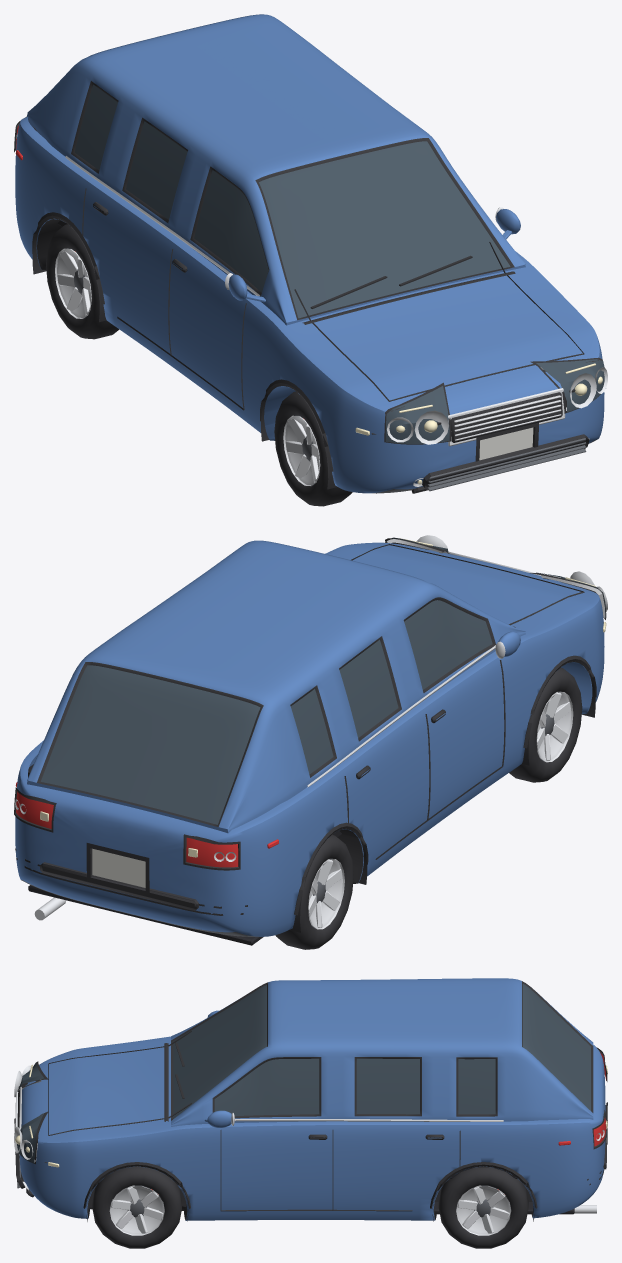
Rendered from CarV3_SUV.fbx.
The picture shows the model from 3 angles, top to bottom: view 1: azimuth 30°, elevation 25°; view 2: azimuth 150°, elevation 25°; view 3: azimuth 270°, elevation 25°; orthographic projection. The views are drawn at different scales.
Visible parts, largest first — view 1: CarV3_SUV; view 2: CarV3_SUV; view 3: CarV3_SUV.
Boxes of the visible parts, x1,y1,x2,y2 form: CarV3_SUV: [14, 14, 607, 506]; CarV3_SUV: [14, 535, 607, 949]; CarV3_SUV: [14, 978, 607, 1248].
Size of the model in its own units: 1.99 by 1.73 by 4.77.
